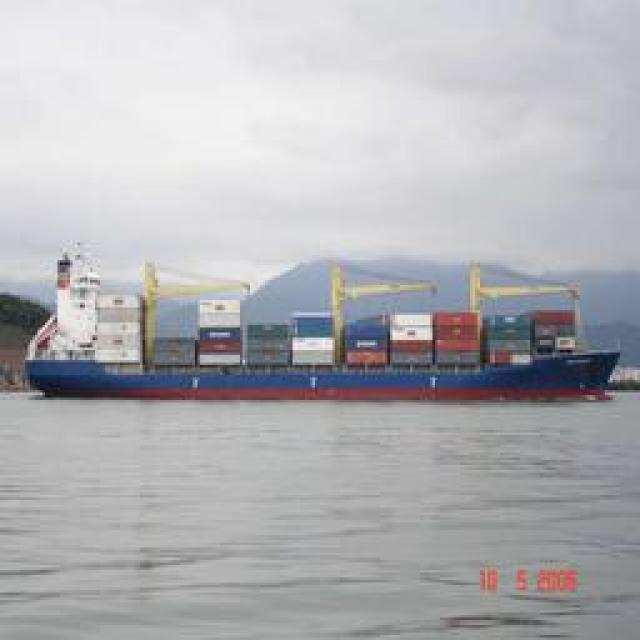CIV_Ship: (24, 247, 618, 405)
